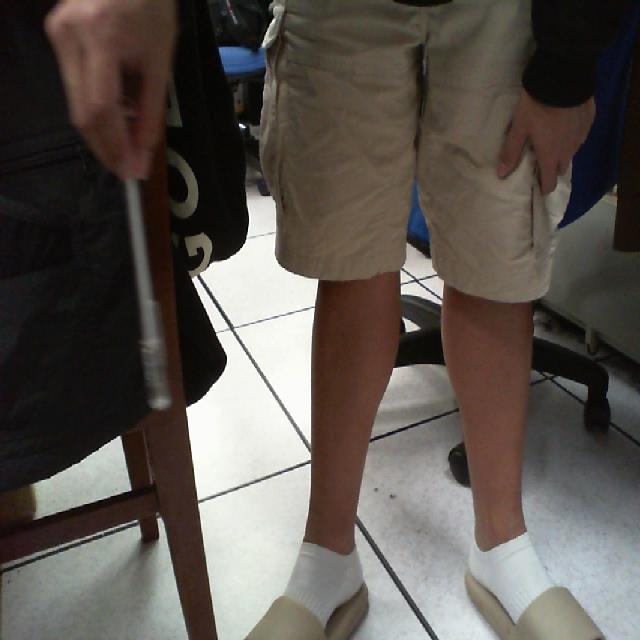Pen: (110, 138, 188, 436)
